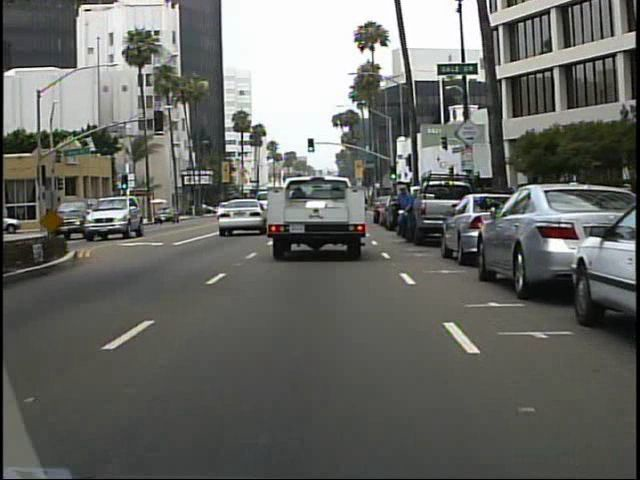person: (391, 183, 413, 241)
